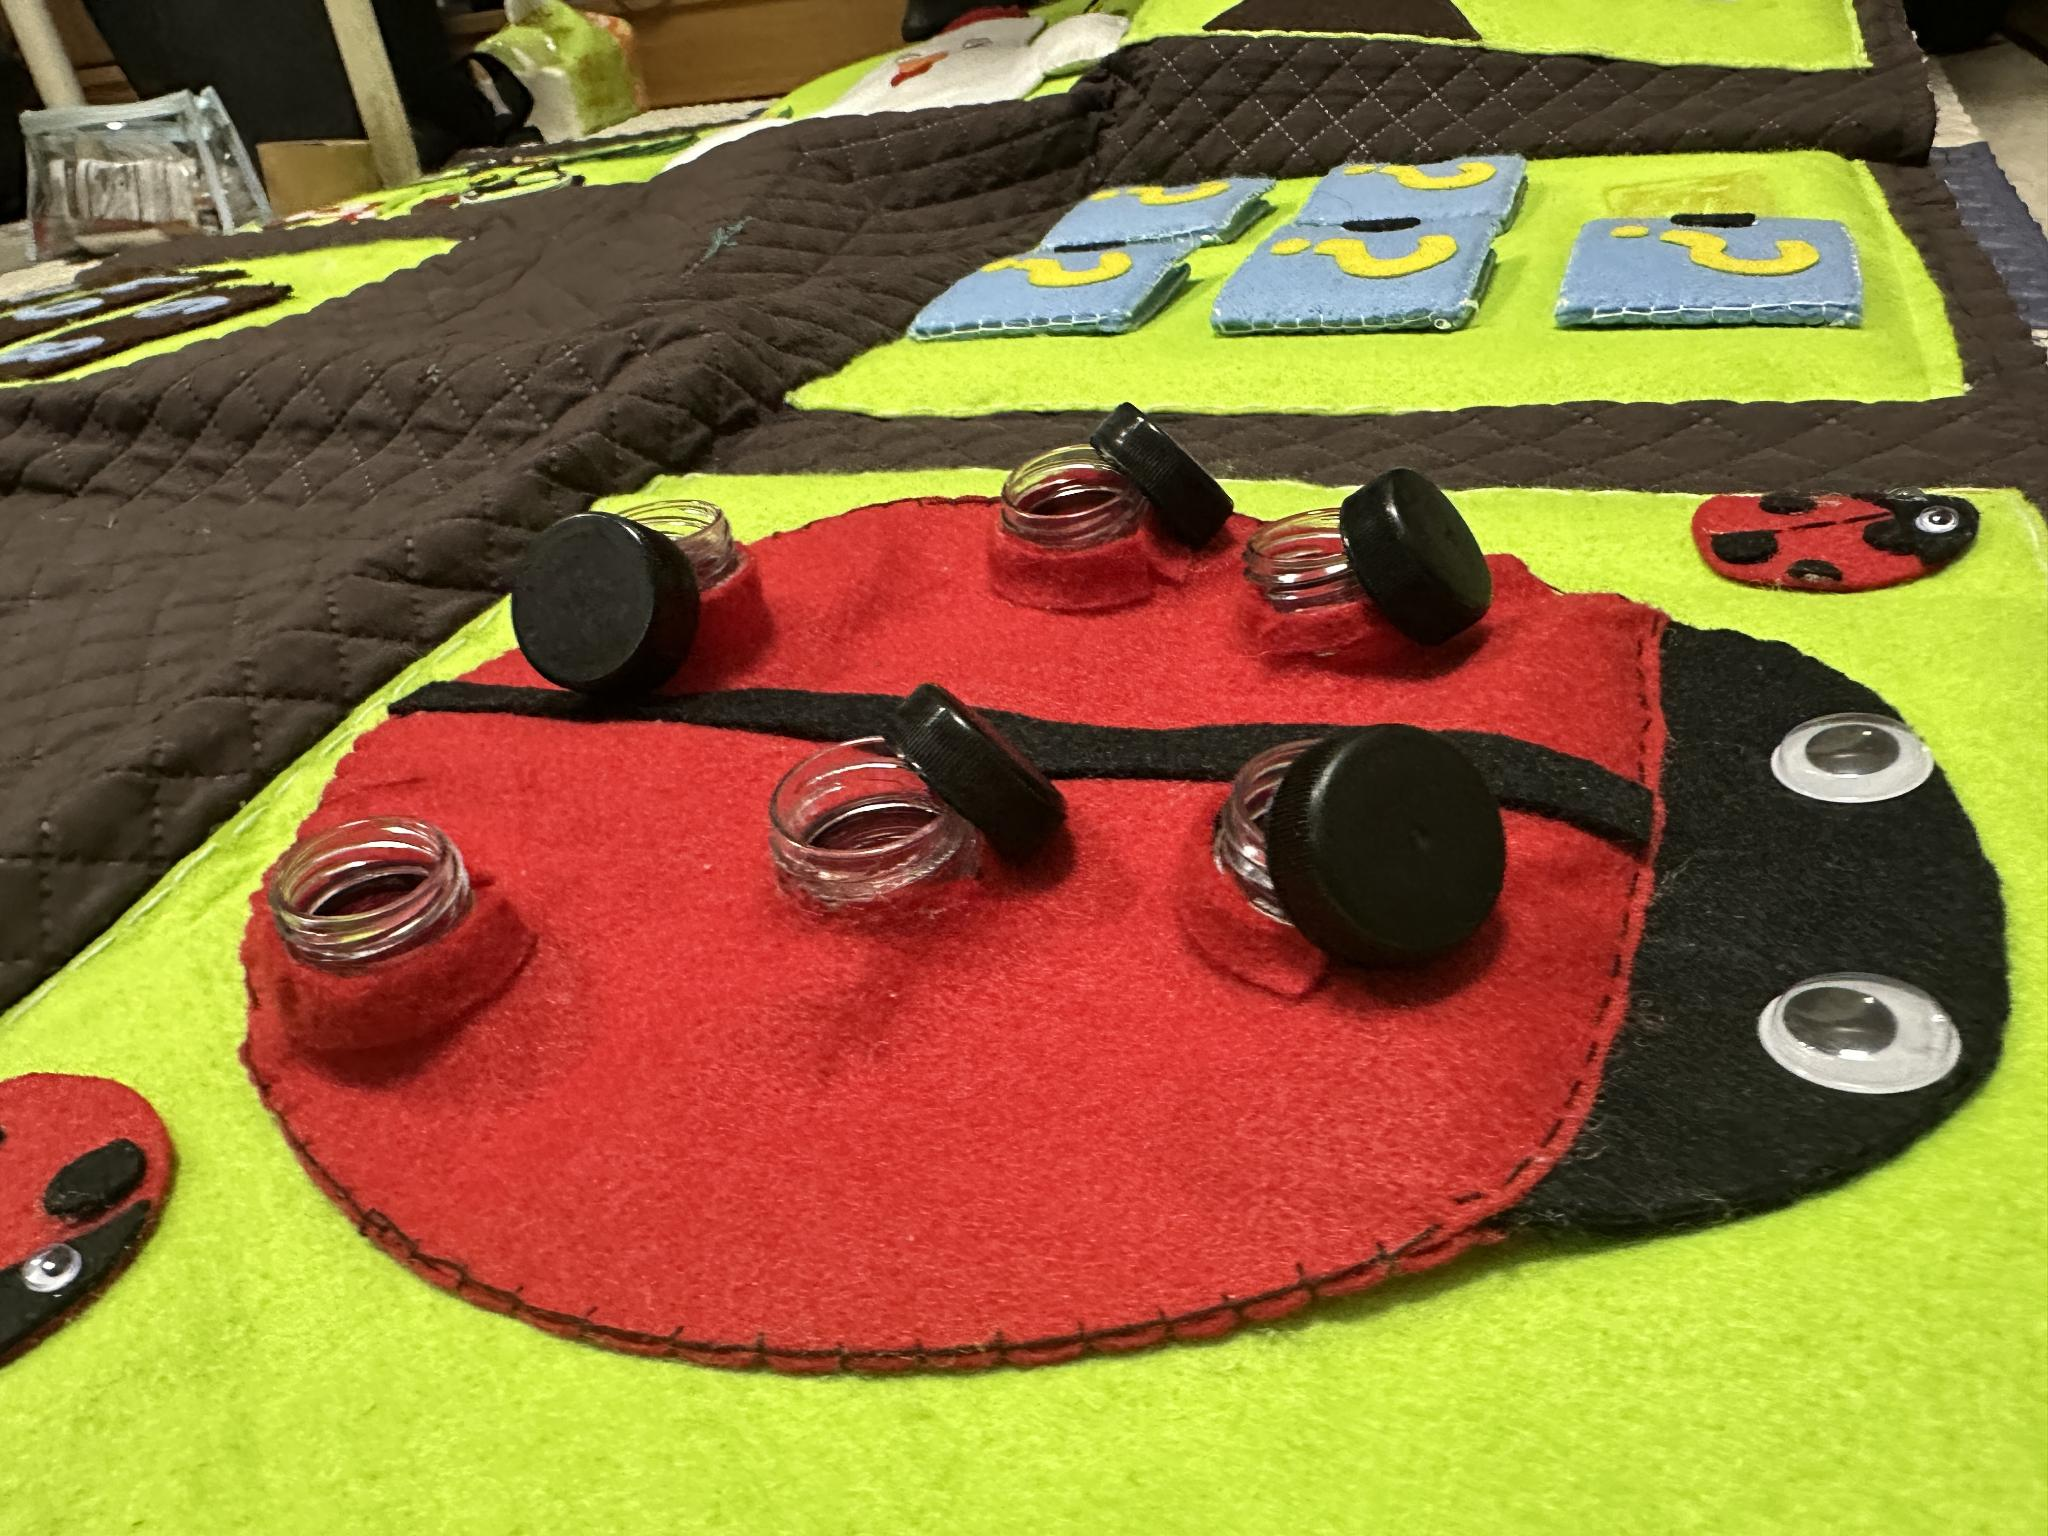cap_ng: (1187, 720, 1516, 1002), (748, 671, 1085, 942), (508, 479, 792, 702), (972, 390, 1237, 611), (1250, 468, 1503, 660)
